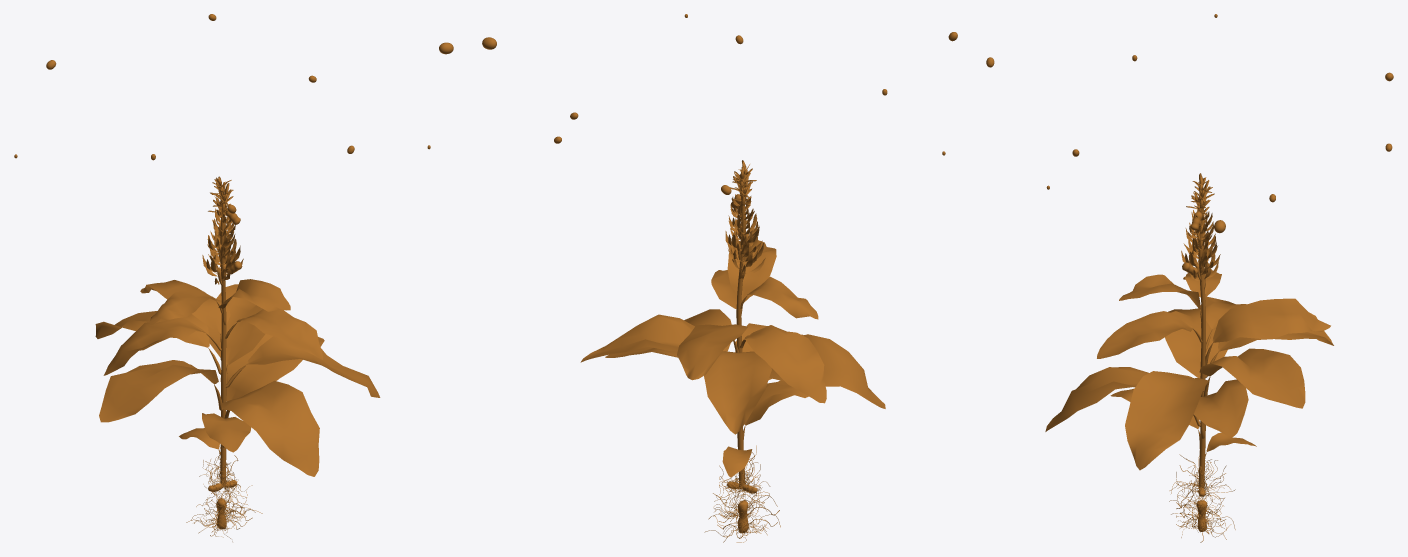
File: Indica Plant New_cons_gltf.glb
3 views of the same model, side by side, from view 1: azimuth 30°, elevation 25°; view 2: azimuth 150°, elevation 25°; view 3: azimuth 270°, elevation 25° (orthographic). The views are drawn at different scales.
Parts seen in each view (by area): view 1: SHAPE, MAIN; view 2: SHAPE, MAIN; view 3: SHAPE, MAIN.
Part boxes in pixels (box(x1,y1,x2,y2)): SHAPE: box(95, 279, 380, 476); MAIN: box(186, 176, 262, 541); SHAPE: box(580, 240, 885, 477); MAIN: box(704, 160, 780, 542); SHAPE: box(1045, 269, 1333, 470); MAIN: box(1169, 173, 1235, 542).
Size of the model in its own units: 15.93 by 14.98 by 12.72.
